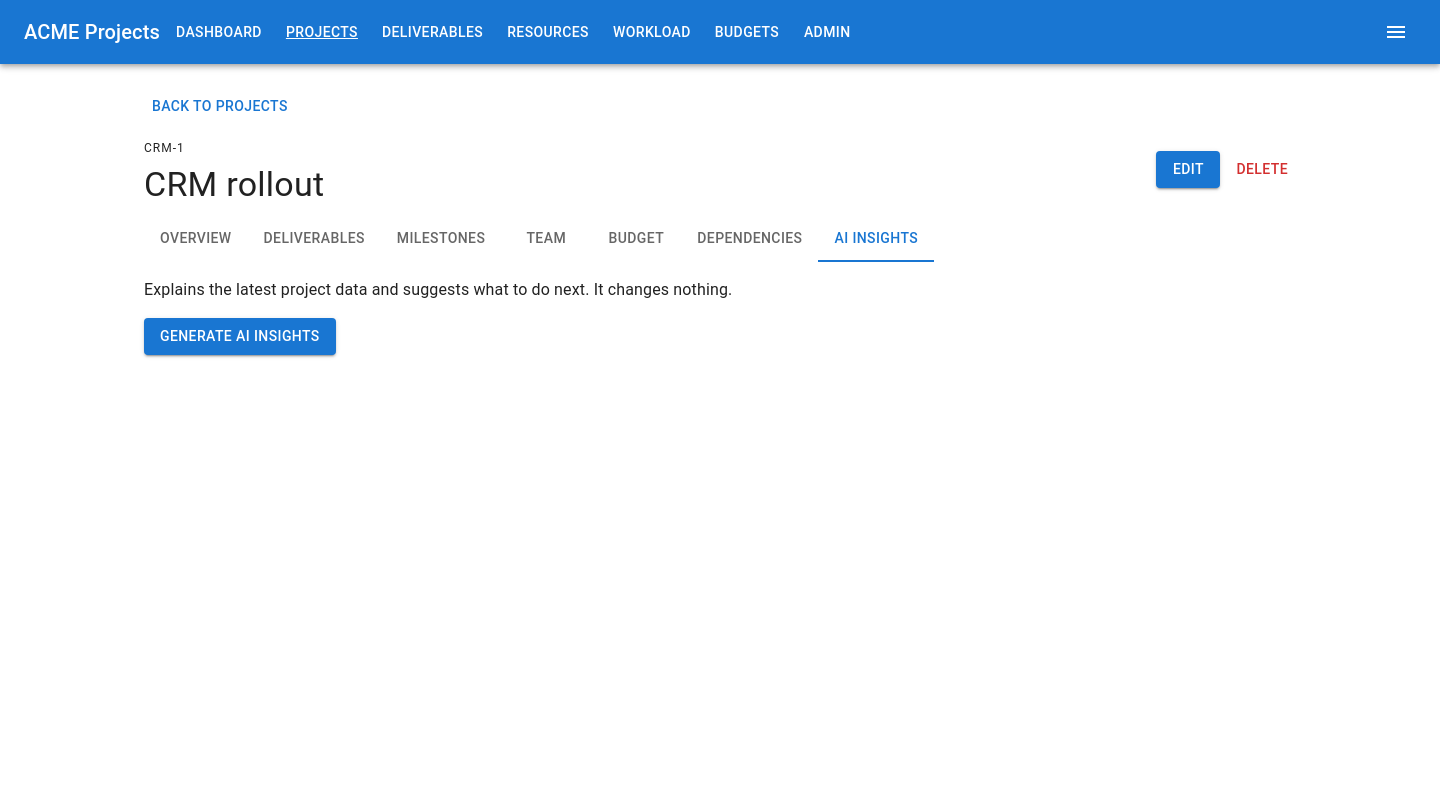
Scenario: AI insights › shows text as text
Click the button "Generate AI Insights". click: {"x": 240, "y": 337}
box: [144,318,336,355]
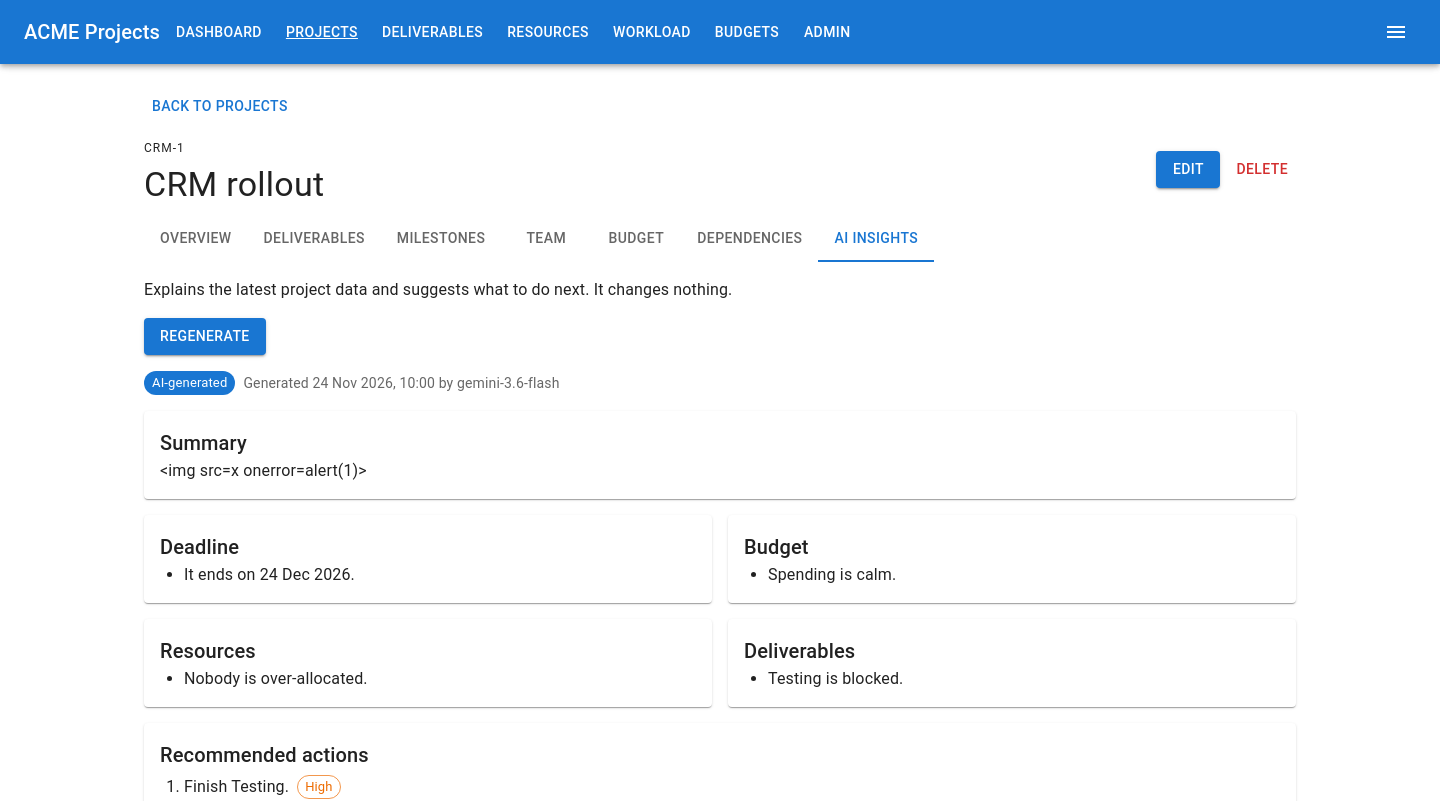
Result: the text "<img src=x onerror=alert(1)>" is shown at [160,461,367,480]
